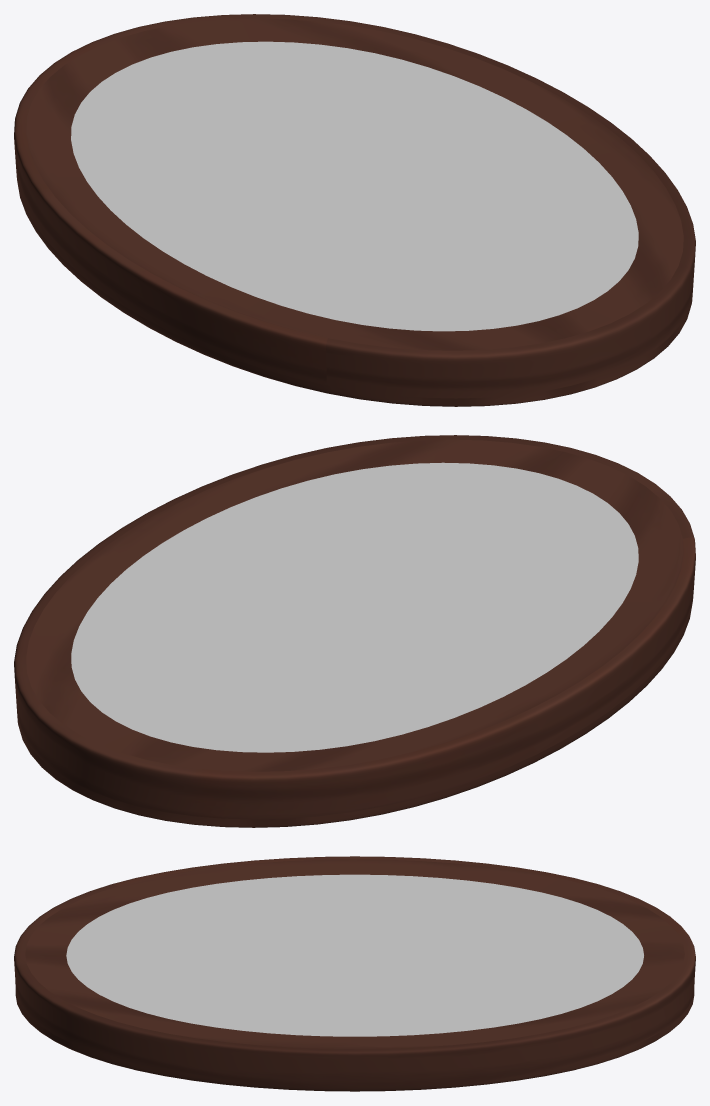
File: imageframewithimage2.fbx
3 views of the same model, one above another, from view 1: azimuth 30°, elevation 25°; view 2: azimuth 150°, elevation 25°; view 3: azimuth 270°, elevation 25° (orthographic). The views are drawn at different scales.
Parts seen in each view (by area): view 1: Cube.005, Piture frame; view 2: Cube.005, Piture frame; view 3: Cube.005, Piture frame.
Part boxes in pixels (<box>): Cube.005: <box>71,41,638,331</box>; Piture frame: <box>14,14,695,406</box>; Cube.005: <box>71,462,638,752</box>; Piture frame: <box>14,435,695,827</box>; Cube.005: <box>66,874,643,1036</box>; Piture frame: <box>14,856,695,1091</box>.
Size of the model in its own units: 20.28 by 1.95 by 29.63.
